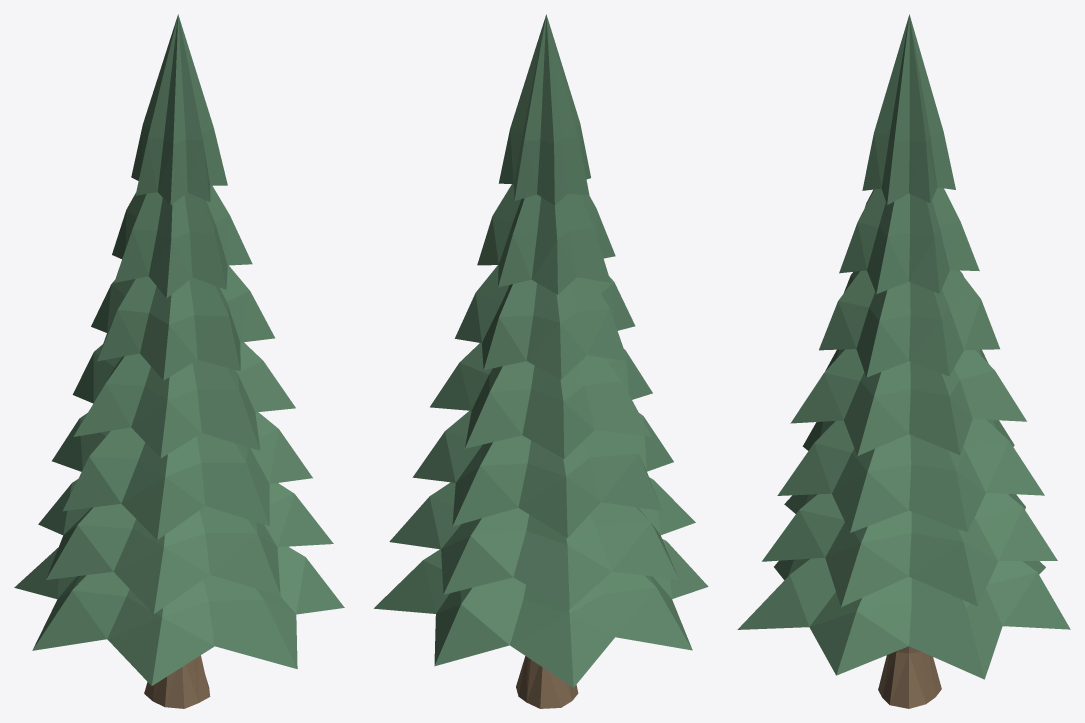
File: Agac_Ladin_01.fbx
3 renders of one model, left to right at view 1: azimuth 30°, elevation 25°; view 2: azimuth 150°, elevation 25°; view 3: azimuth 270°, elevation 25°, orthographic.
Parts seen in each view (by area): view 1: Agac_Ladin_01_LOD0; view 2: Agac_Ladin_01_LOD0; view 3: Agac_Ladin_01_LOD0.
Part boxes in pixels (x1=…): Agac_Ladin_01_LOD0: x1=14, y1=14, x2=344, y2=708; Agac_Ladin_01_LOD0: x1=374, y1=14, x2=708, y2=708; Agac_Ladin_01_LOD0: x1=737, y1=14, x2=1070, y2=708.
Size of what is drawn, in the model's own units: 6 by 13.86 by 6.15.
